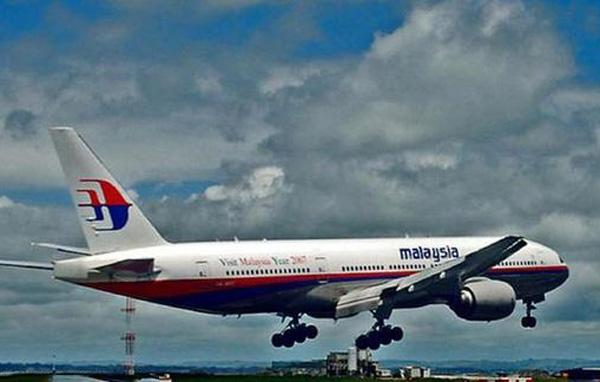airplane: (12, 121, 568, 346)
